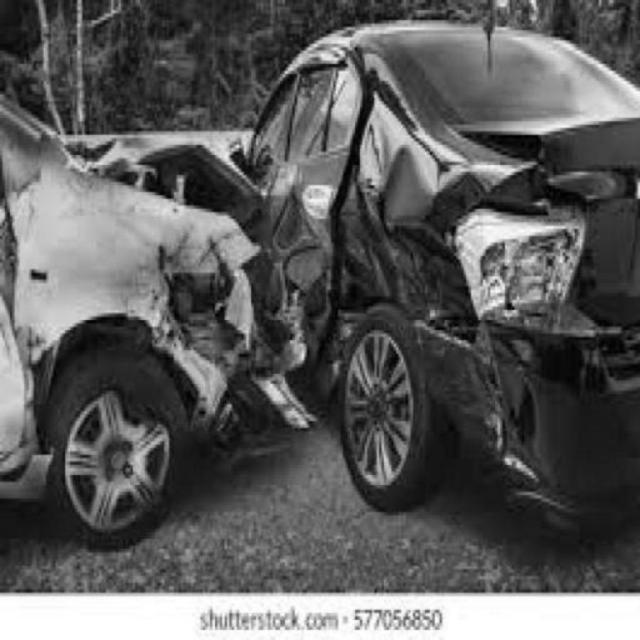accident: (2, 79, 636, 536)
